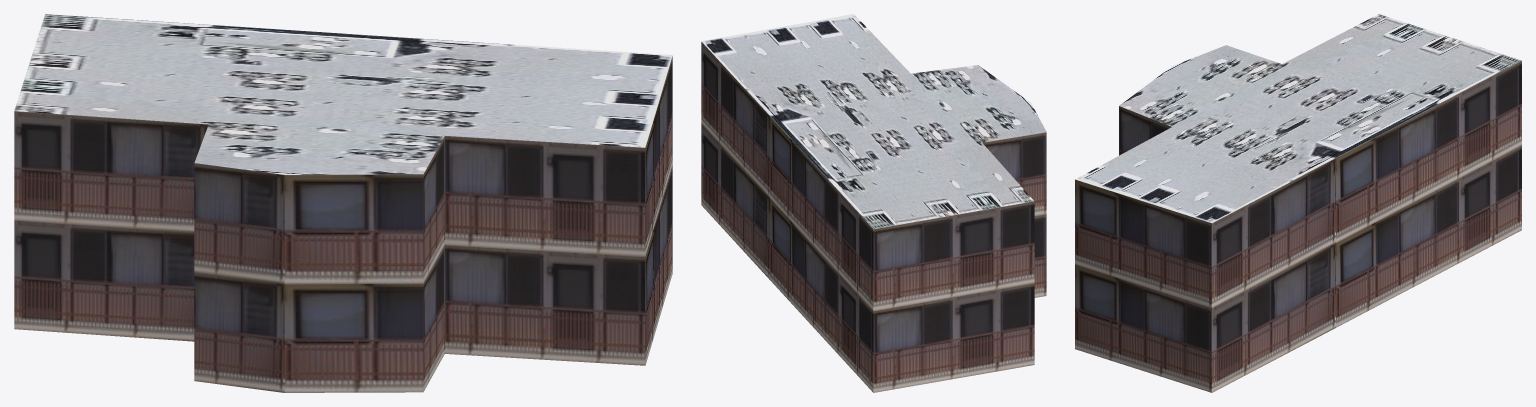
The model's file is ResTex__4691.fbx.
The picture shows the model from 3 angles, left to right: view 1: azimuth 30°, elevation 25°; view 2: azimuth 150°, elevation 25°; view 3: azimuth 270°, elevation 25°; orthographic projection. The views are drawn at different scales.
Visible parts, largest first — view 1: CityEngineMaterial_6_m, CityEngineMaterial_4_m; view 2: CityEngineMaterial_6_m, CityEngineMaterial_4_m; view 3: CityEngineMaterial_6_m, CityEngineMaterial_4_m.
Boxes of the visible parts, <box> form: CityEngineMaterial_6_m: <box>14,56,672,392</box>; CityEngineMaterial_4_m: <box>14,14,672,174</box>; CityEngineMaterial_6_m: <box>701,42,1046,392</box>; CityEngineMaterial_4_m: <box>701,14,1046,229</box>; CityEngineMaterial_6_m: <box>1075,60,1521,392</box>; CityEngineMaterial_4_m: <box>1075,14,1521,222</box>.
Bounding box in the file's own units: 15.87 × 6 × 14.32.
2 materials, 2 textured.
